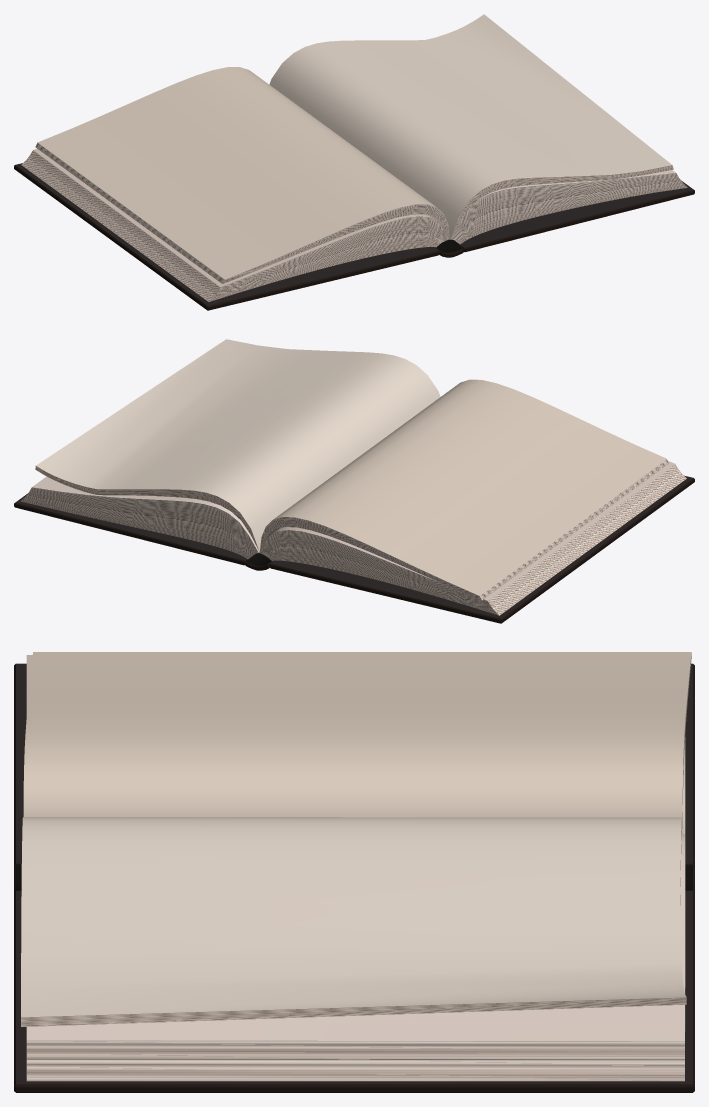
File: Book.fbx
3 renders of one model, top to bottom at view 1: azimuth 30°, elevation 25°; view 2: azimuth 150°, elevation 25°; view 3: azimuth 270°, elevation 25°, orthographic. The views are drawn at different scales.
Visible parts, largest first — view 1: Book; view 2: Book; view 3: Book.
Part boxes in pixels (bbox=[...]): Book: bbox=[14, 14, 694, 310]; Book: bbox=[14, 339, 694, 623]; Book: bbox=[14, 652, 694, 1092].
Bounding box in the file's own units: 103 × 12.58 × 70.88.
